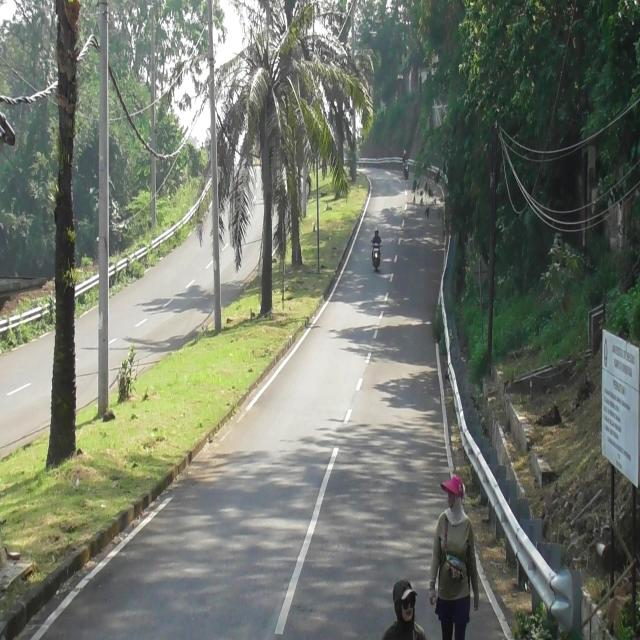motorcycle: (371, 240, 382, 272), (403, 158, 410, 180)
person: (372, 227, 382, 246), (401, 150, 409, 163)
rider_region: (371, 228, 383, 272), (401, 149, 410, 180)
